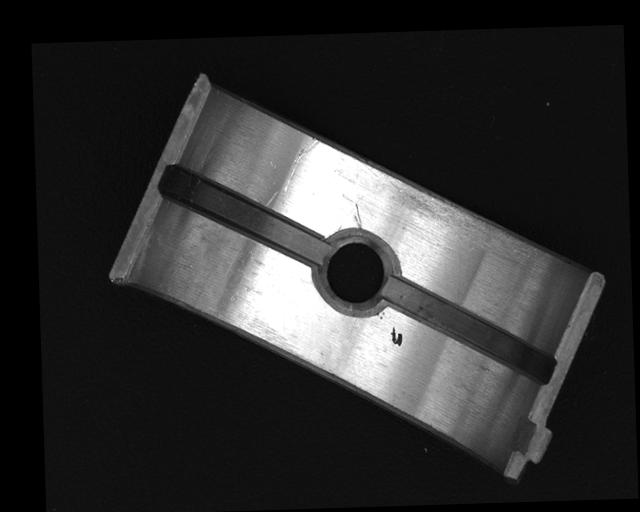blot: (390, 327, 403, 347)
gap: (385, 274, 557, 388), (158, 163, 326, 269)
hole: (312, 229, 400, 316)
nick: (280, 138, 321, 193), (353, 203, 362, 228)
scratch: (387, 172, 547, 263)
